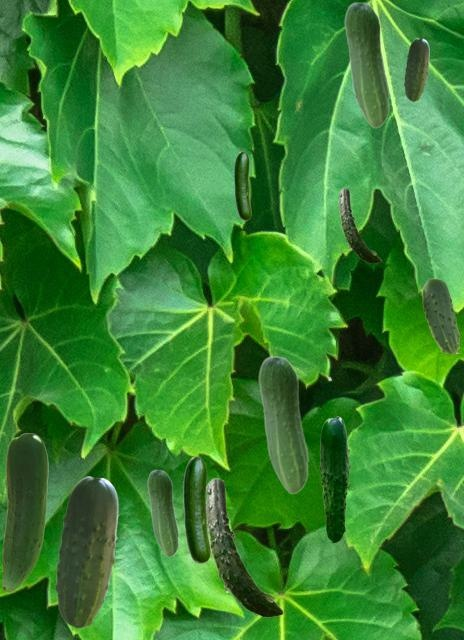cucumber: (207, 478, 282, 616), (55, 476, 117, 627), (2, 433, 47, 591), (258, 355, 308, 493), (344, 1, 389, 127), (319, 416, 349, 542), (338, 188, 380, 262), (183, 456, 209, 562), (147, 469, 178, 556), (422, 278, 458, 352), (404, 38, 428, 100), (234, 151, 250, 219)
